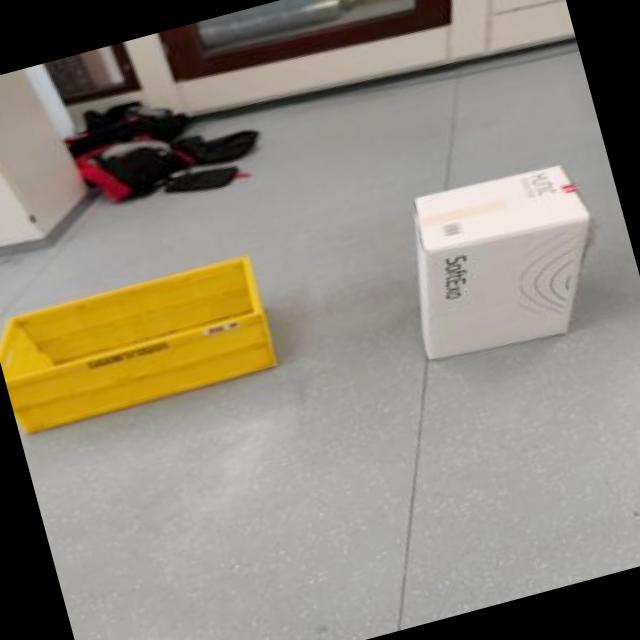box: (365, 126, 640, 403), (0, 238, 315, 455)
